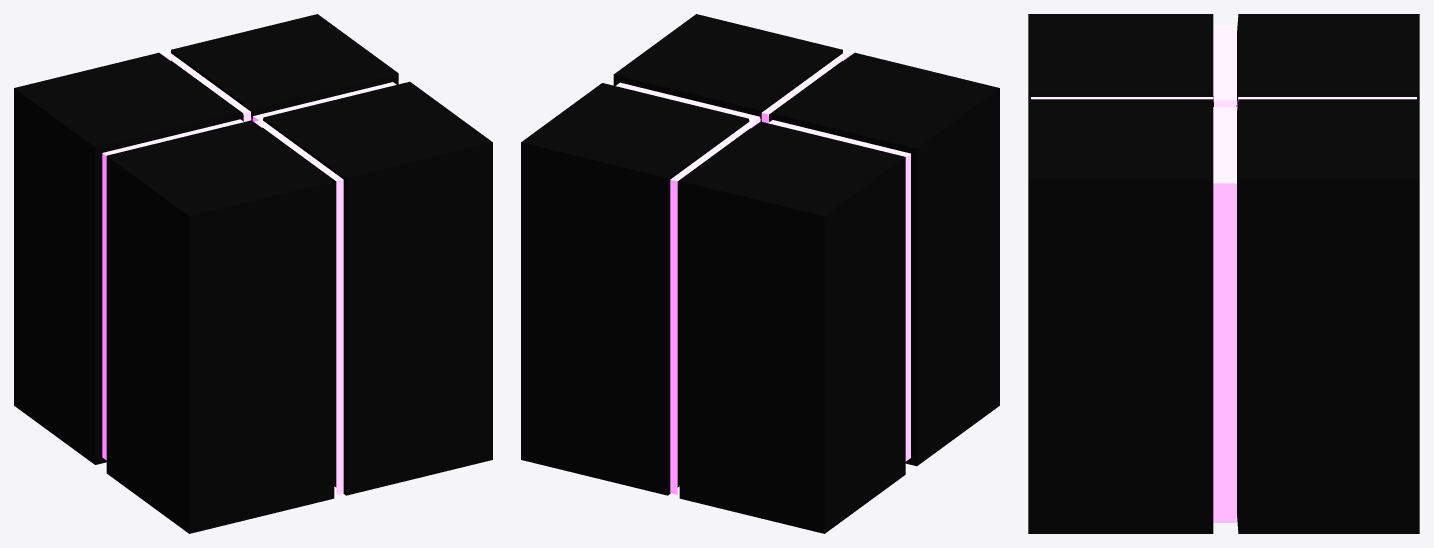
3 views of the same model, side by side, from view 1: azimuth 30°, elevation 25°; view 2: azimuth 150°, elevation 25°; view 3: azimuth 270°, elevation 25° (orthographic). The views are drawn at different scales.
Visible parts, largest first — view 1: Cube, Cube.001; view 2: Cube, Cube.001; view 3: Cube, Cube.001.
Part boxes in pixels (left/top/right/bottom): Cube: left=14, top=14, right=492, bottom=533; Cube.001: left=102, top=53, right=396, bottom=494; Cube: left=521, top=14, right=999, bottom=533; Cube.001: left=616, top=53, right=910, bottom=494; Cube: left=1028, top=14, right=1419, bottom=533; Cube.001: left=1031, top=25, right=1416, bottom=522.
Bounding box in the file's own units: 200 × 200 × 200.
